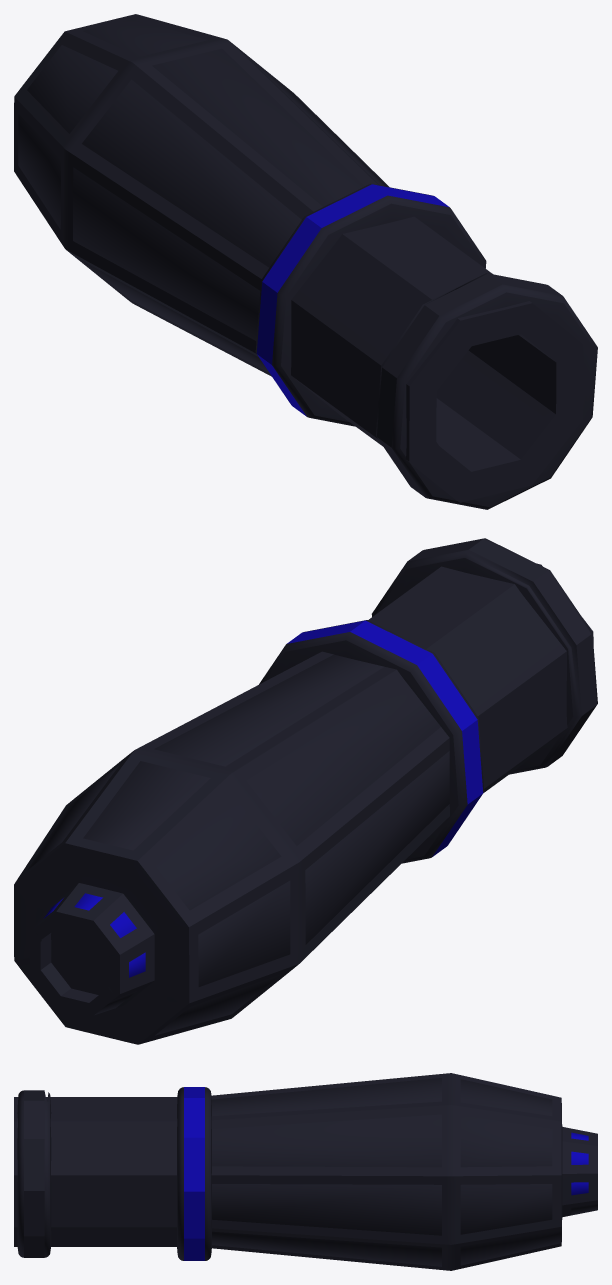
File: Cannon.fbx
3 renders of one model, top to bottom at view 1: azimuth 30°, elevation 25°; view 2: azimuth 150°, elevation 25°; view 3: azimuth 270°, elevation 25°, orthographic. The views are drawn at different scales.
Visible parts, largest first — view 1: cannon001; view 2: cannon001; view 3: cannon001.
Part boxes in pixels (x1=…): cannon001: x1=14, y1=14, x2=597, y2=509; cannon001: x1=14, y1=538, x2=597, y2=1044; cannon001: x1=14, y1=1073, x2=597, y2=1270.
Bounding box in the file's own units: 1.39 × 1.4 × 4.45.
